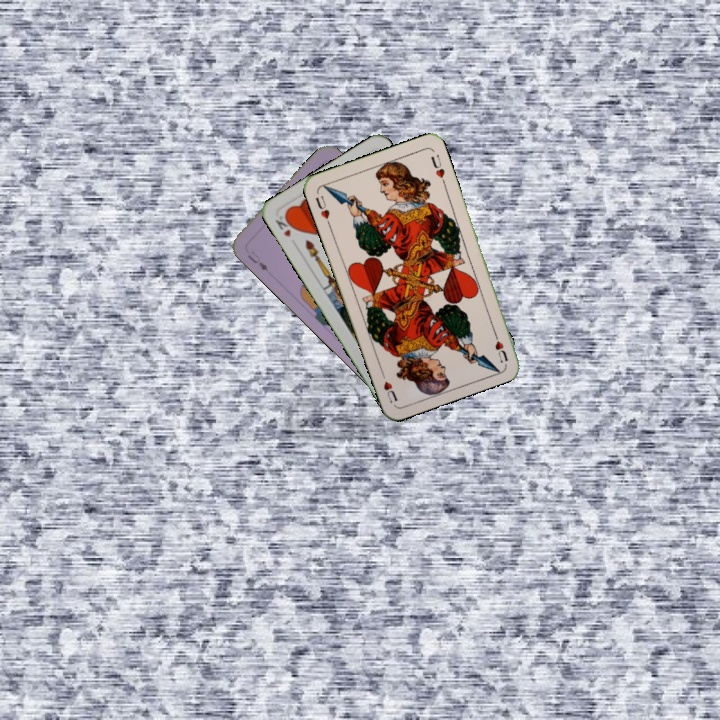EU: (243, 247, 271, 274)
HK: (271, 210, 297, 240)
HU: (489, 326, 510, 365), (311, 191, 333, 228)
